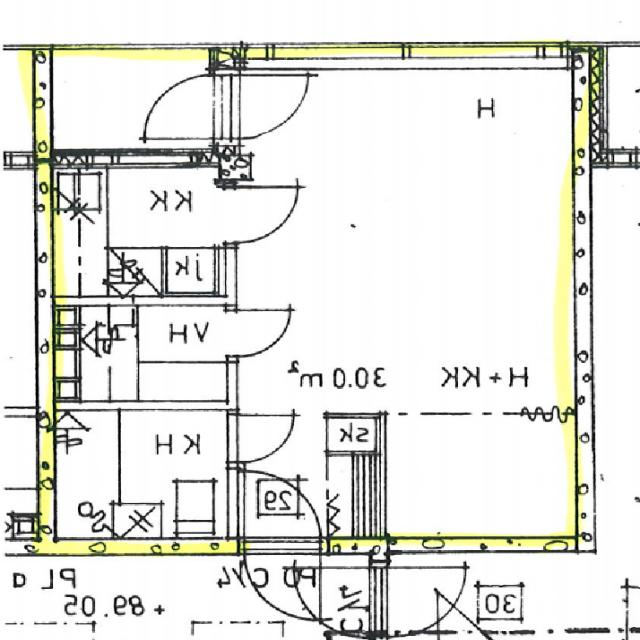door: (245, 538, 321, 624), (245, 469, 321, 555), (143, 74, 240, 140), (215, 74, 312, 140), (226, 187, 301, 243), (226, 310, 290, 356), (226, 416, 290, 462)
